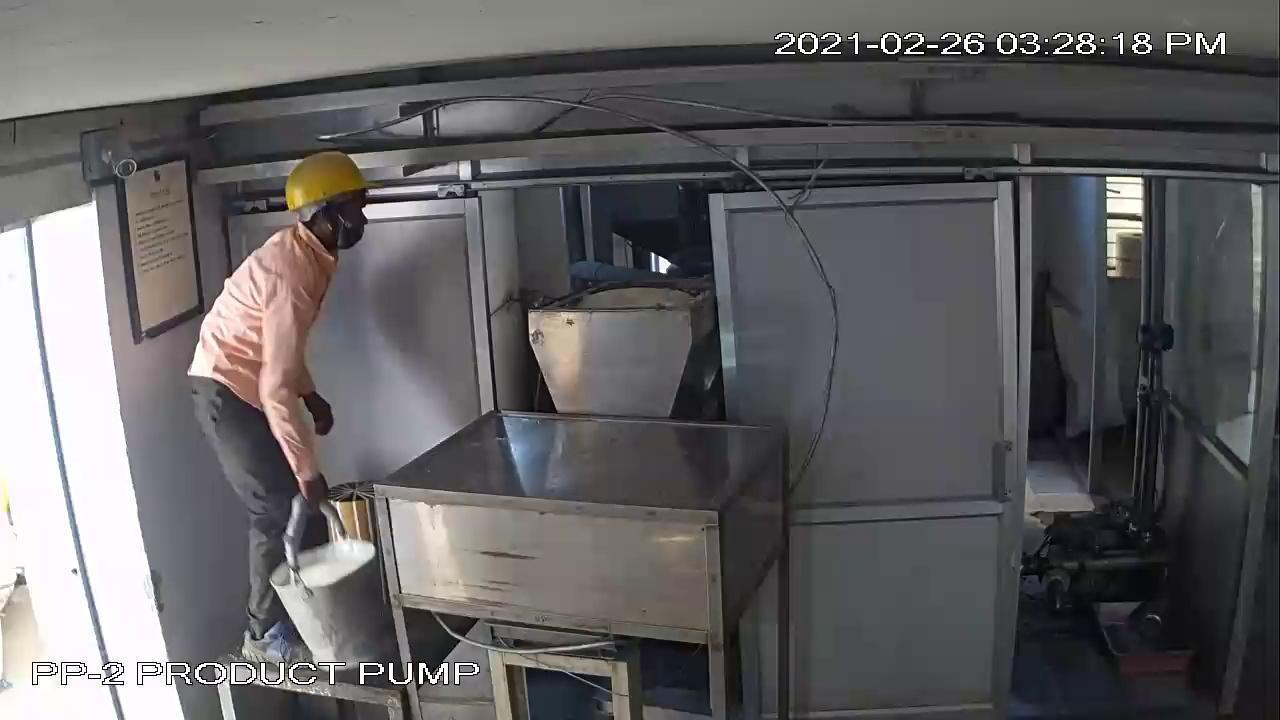helmet: (272, 150, 381, 210)
